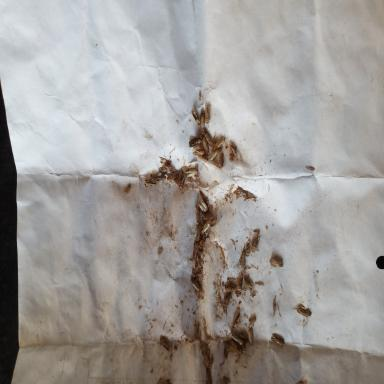pbw: (211, 134, 225, 154), (200, 216, 212, 235), (188, 134, 202, 148), (204, 101, 211, 128), (190, 276, 201, 293), (250, 235, 260, 253), (232, 312, 242, 330), (270, 334, 285, 346), (229, 340, 240, 356), (191, 106, 200, 125), (231, 333, 244, 346), (159, 337, 171, 351), (296, 304, 311, 315), (201, 134, 209, 154), (204, 348, 212, 368), (270, 257, 284, 268), (198, 198, 208, 213), (200, 110, 206, 134), (204, 130, 212, 148), (192, 147, 206, 157), (185, 168, 199, 178), (240, 246, 246, 269), (151, 174, 166, 183), (166, 169, 177, 181), (243, 278, 255, 289), (210, 148, 220, 161), (178, 174, 186, 190), (194, 224, 201, 242), (229, 141, 237, 156), (160, 165, 172, 175), (224, 290, 232, 305), (237, 273, 243, 293), (144, 179, 158, 187), (200, 231, 207, 247), (194, 254, 202, 268), (296, 309, 309, 317), (176, 169, 182, 186), (245, 240, 251, 257), (237, 186, 248, 195), (224, 285, 238, 292), (198, 154, 210, 162), (248, 317, 256, 329), (193, 242, 199, 258), (195, 207, 200, 225), (219, 152, 224, 169), (211, 162, 223, 169), (248, 328, 253, 344), (244, 196, 257, 201), (239, 333, 249, 339), (272, 302, 276, 317), (254, 280, 264, 286), (193, 266, 199, 276), (198, 92, 202, 100)
